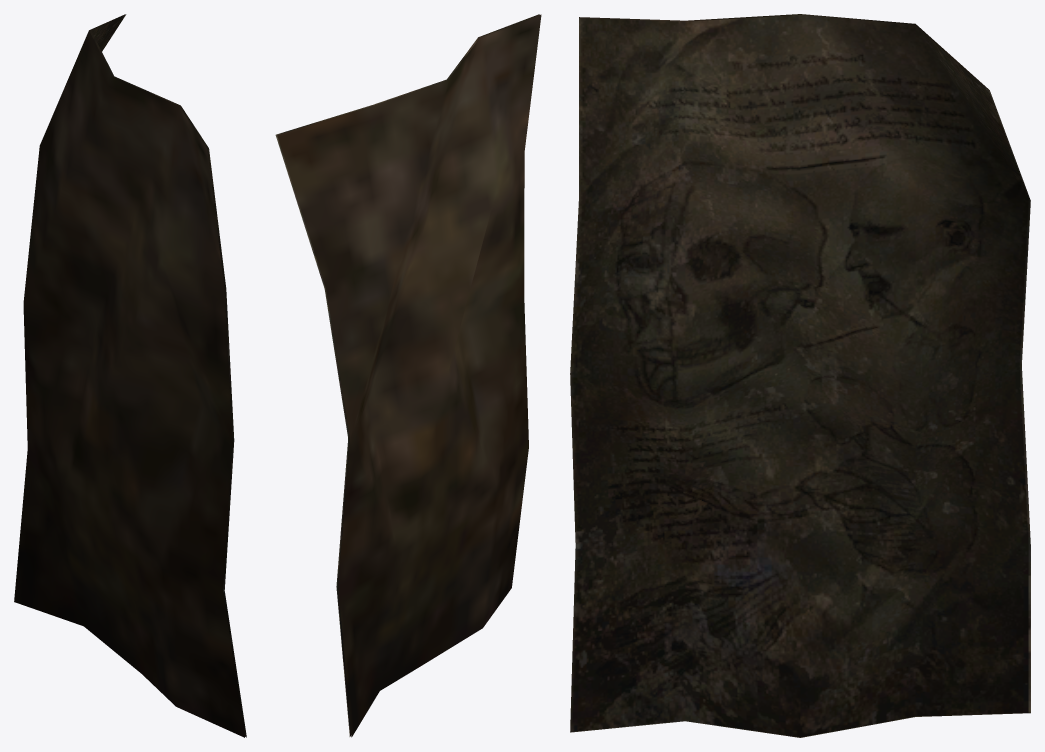
The model's file is sketch_disect_human03_worn.dae.
3 renders of one model, left to right at view 1: azimuth 30°, elevation 25°; view 2: azimuth 150°, elevation 25°; view 3: azimuth 270°, elevation 25°, orthographic. The views are drawn at different scales.
Visible parts, largest first — view 1: polySurface12; view 2: polySurface12; view 3: polySurface12.
Part boxes in pixels (x1,y1,x2,y2): polySurface12: [14, 14, 246, 737]; polySurface12: [275, 14, 541, 737]; polySurface12: [570, 14, 1030, 737].
Size of the model in its own units: 0.1997 by 1.22 by 0.7179.
